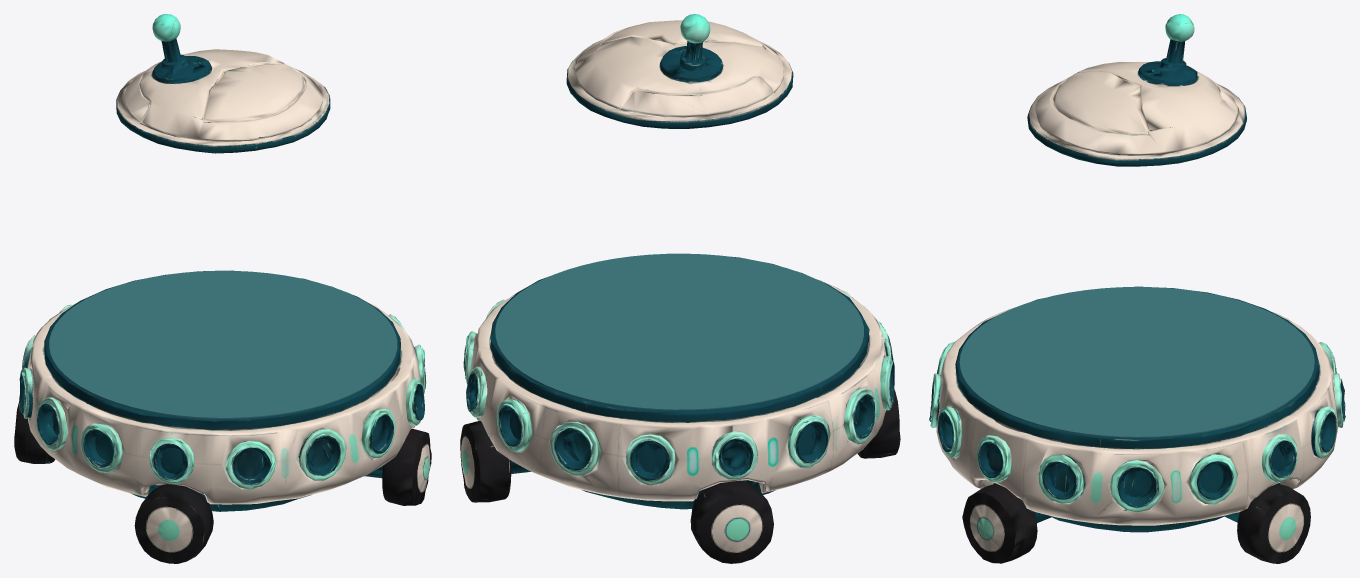
The model's file is byte-vat-v1.glb.
The picture shows the model from 3 angles, left to right: view 1: azimuth 30°, elevation 25°; view 2: azimuth 150°, elevation 25°; view 3: azimuth 270°, elevation 25°; orthographic projection. The views are drawn at different scales.
Parts seen in each view (by area): view 1: Vat_Chassis, Vat_Basin, Vat_Lid; view 2: Vat_Chassis, Vat_Basin, Vat_Lid; view 3: Vat_Chassis, Vat_Basin, Vat_Lid.
Boxes of the visible parts, x1,y1,x2,y2 form: Vat_Chassis: (14, 270, 431, 563); Vat_Basin: (49, 270, 397, 418); Vat_Lid: (116, 14, 330, 153); Vat_Chassis: (460, 256, 900, 563); Vat_Basin: (495, 253, 863, 410); Vat_Lid: (566, 14, 793, 128); Vat_Chassis: (929, 286, 1345, 563); Vat_Basin: (959, 287, 1314, 437); Vat_Lid: (1027, 14, 1246, 166).
Size of the model in its own units: 1.73 by 2.16 by 1.73.
2 materials, 1 textured.
